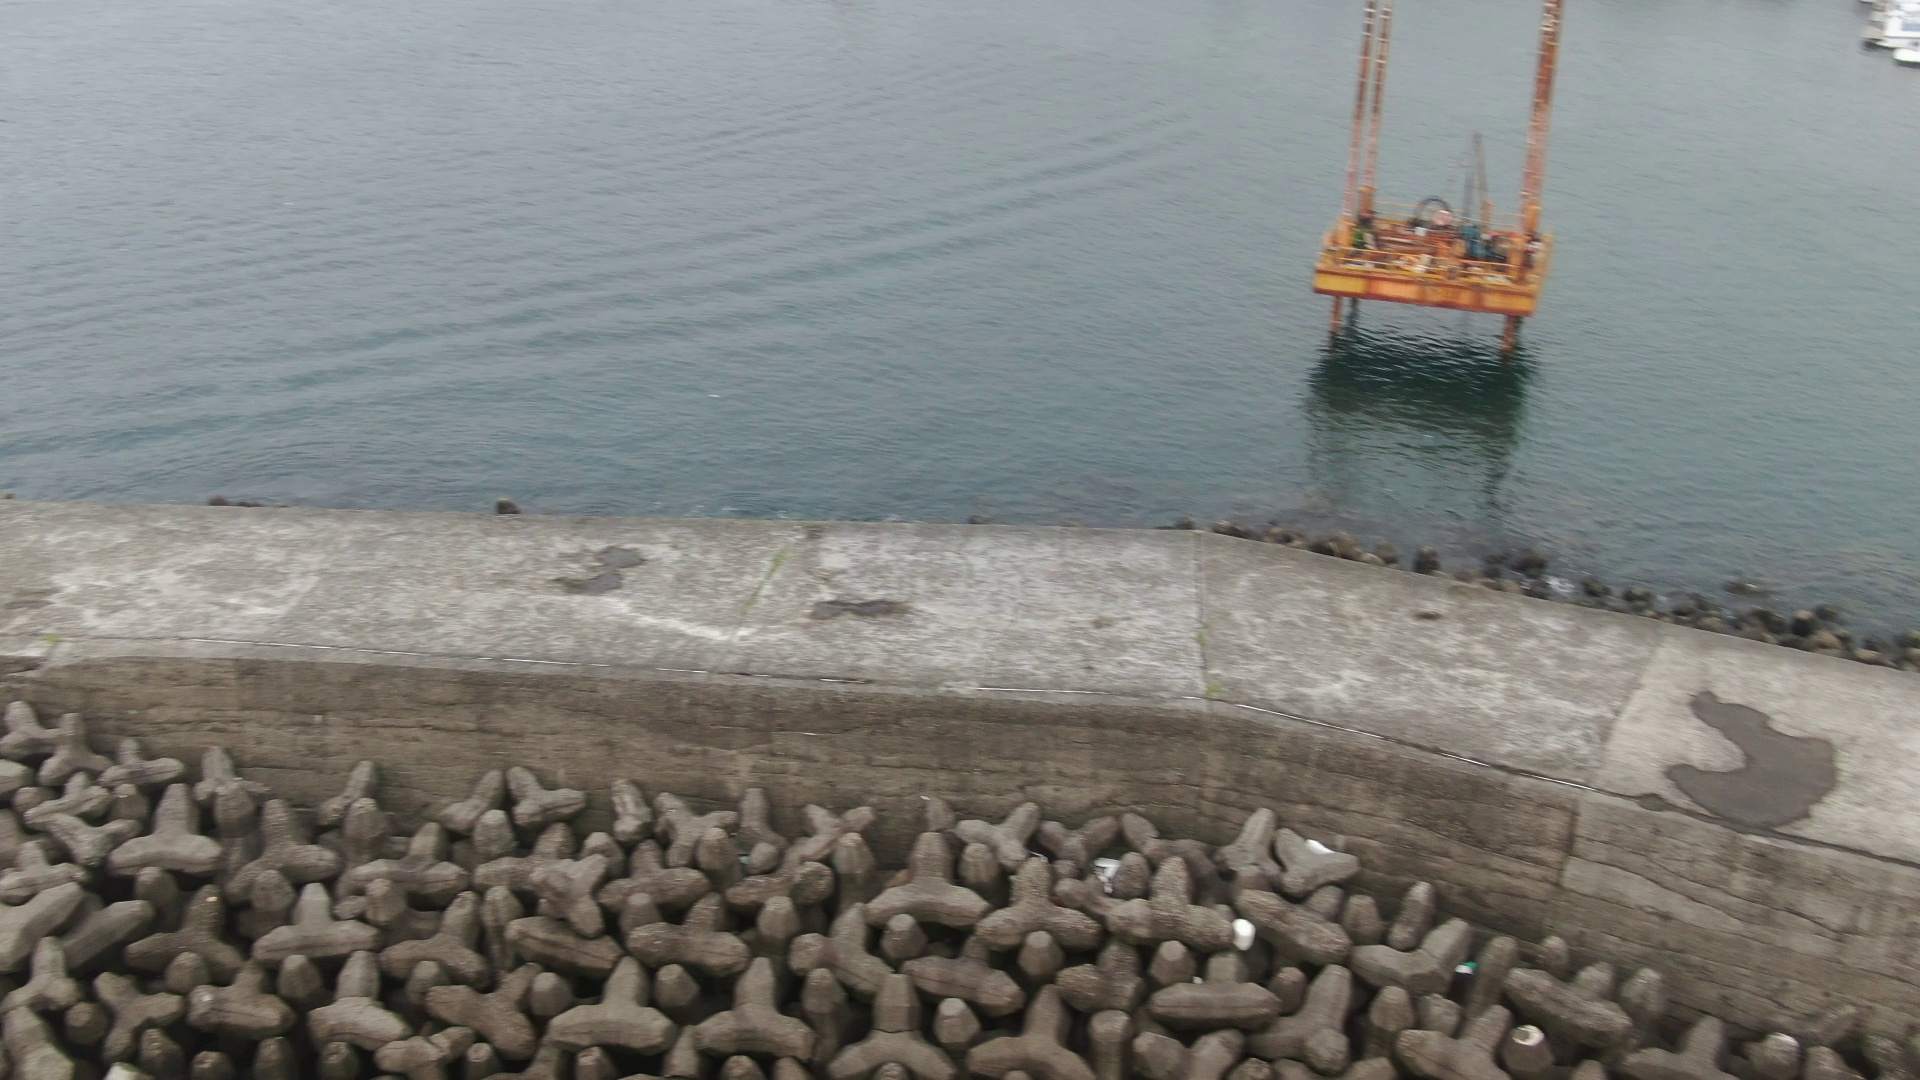garbage: (1452, 945, 1478, 985)
